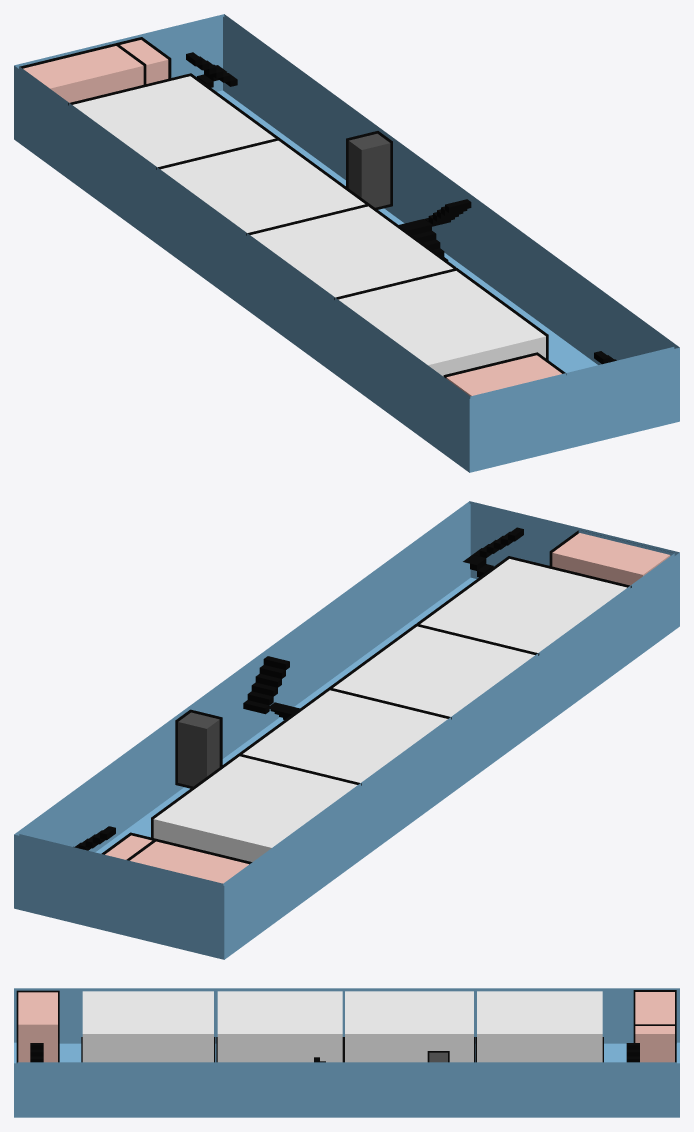
The picture shows the model from 3 angles, top to bottom: view 1: azimuth 30°, elevation 25°; view 2: azimuth 150°, elevation 25°; view 3: azimuth 270°, elevation 25°; orthographic projection. The views are drawn at different scales.
Visible parts, largest first — view 1: object, room_8_1_1, room_8_1_3, room_8_1_4, room_8_1_2, トイレ_8_1_1, エレベーター_8_1_1, トイレ_8_1_2, 階段_8_1_3, トイレ_8_1_3, object_line.001, 階段_8_1_2 (+3 smaller); view 2: object, room_8_1_4, room_8_1_1, room_8_1_3, room_8_1_2, トイレ_8_1_2, エレベーター_8_1_1, トイレ_8_1_1, 階段_8_1_3, 階段_8_1_1, object_line.004, object_line.001 (+2 smaller); view 3: object, room_8_1_1, room_8_1_4, room_8_1_2, room_8_1_3, トイレ_8_1_2, トイレ_8_1_3, トイレ_8_1_1, object_line.005, 階段_8_1_1, 階段_8_1_2, object_line.008.
Part boxes in pixels (bbox=[...]): object: bbox=[14, 14, 679, 472]; room_8_1_1: bbox=[338, 271, 545, 376]; room_8_1_3: bbox=[160, 140, 364, 232]; room_8_1_4: bbox=[73, 76, 275, 167]; room_8_1_2: bbox=[250, 206, 452, 297]; トイレ_8_1_1: bbox=[23, 46, 143, 102]; エレベーター_8_1_1: bbox=[348, 133, 390, 207]; トイレ_8_1_2: bbox=[446, 355, 561, 396]; 階段_8_1_3: bbox=[399, 199, 471, 260]; トイレ_8_1_3: bbox=[120, 40, 168, 83]; object_line.001: bbox=[334, 268, 548, 359]; 階段_8_1_2: bbox=[186, 52, 237, 87]; object: bbox=[14, 501, 679, 959]; room_8_1_4: bbox=[153, 756, 357, 861]; room_8_1_1: bbox=[420, 559, 626, 652]; room_8_1_3: bbox=[243, 690, 447, 782]; room_8_1_2: bbox=[333, 626, 534, 716]; トイレ_8_1_2: bbox=[552, 533, 670, 585]; エレベーター_8_1_1: bbox=[178, 712, 219, 786]; トイレ_8_1_1: bbox=[130, 841, 248, 883]; 階段_8_1_3: bbox=[243, 656, 299, 719]; 階段_8_1_1: bbox=[463, 527, 523, 577]; object_line.004: bbox=[151, 753, 361, 837]; object_line.001: bbox=[417, 556, 631, 624]; object: bbox=[14, 988, 679, 1117]; room_8_1_1: bbox=[82, 991, 213, 1062]; room_8_1_4: bbox=[477, 991, 602, 1062]; room_8_1_2: bbox=[217, 991, 342, 1062]; room_8_1_3: bbox=[345, 991, 473, 1062]; トイレ_8_1_2: bbox=[18, 992, 57, 1062]; トイレ_8_1_3: bbox=[635, 1026, 674, 1062]; トイレ_8_1_1: bbox=[635, 992, 674, 1024]; object_line.005: bbox=[16, 990, 59, 1062]; 階段_8_1_1: bbox=[30, 1043, 43, 1062]; 階段_8_1_2: bbox=[626, 1043, 639, 1062]; object_line.008: bbox=[633, 990, 676, 1024].
Size of the model in its own units: 0.6592 by 0.2217 by 2.47.
